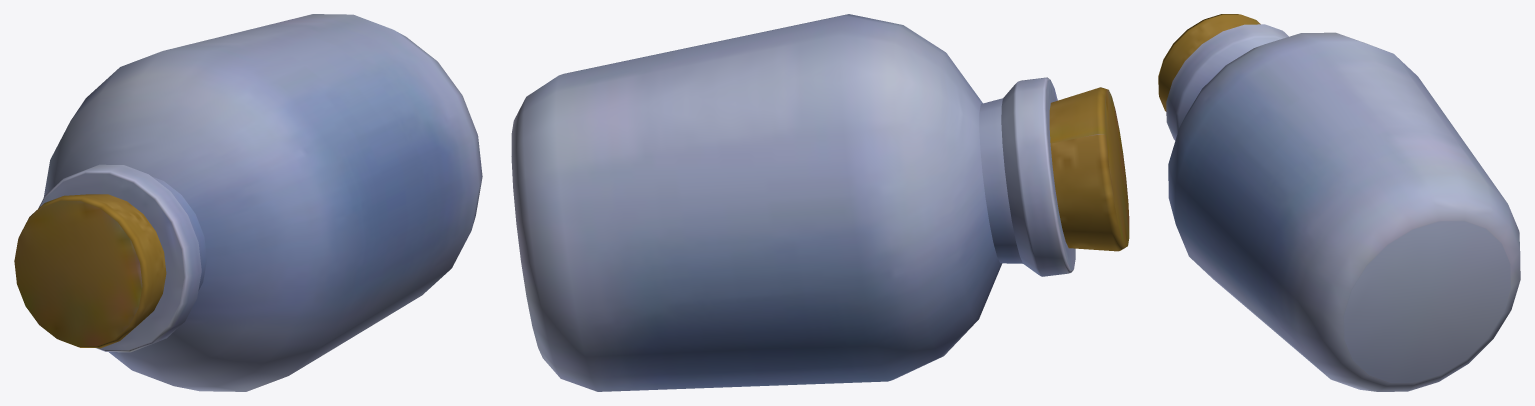
The model's file is message-bottle.glb.
The picture shows the model from 3 angles, left to right: view 1: azimuth 30°, elevation 25°; view 2: azimuth 150°, elevation 25°; view 3: azimuth 270°, elevation 25°; orthographic projection. The views are drawn at different scales.
Size of the model in its own units: 4.74 by 2.98 by 3.56.
1 material, 1 textured.
